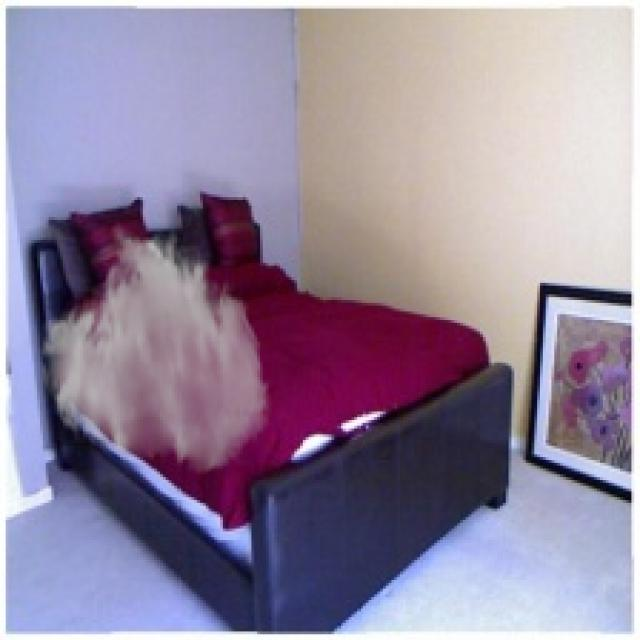smoke: (37, 220, 272, 477)
